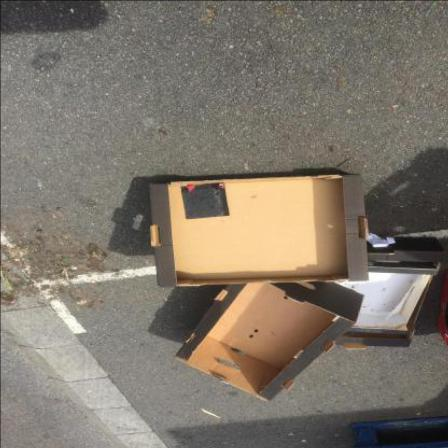Carton: (150, 176, 370, 289), (176, 282, 366, 403), (335, 238, 446, 350)
Other litter: (216, 183, 226, 190), (187, 186, 196, 192)
Unlabeled litter: (201, 409, 221, 419)
